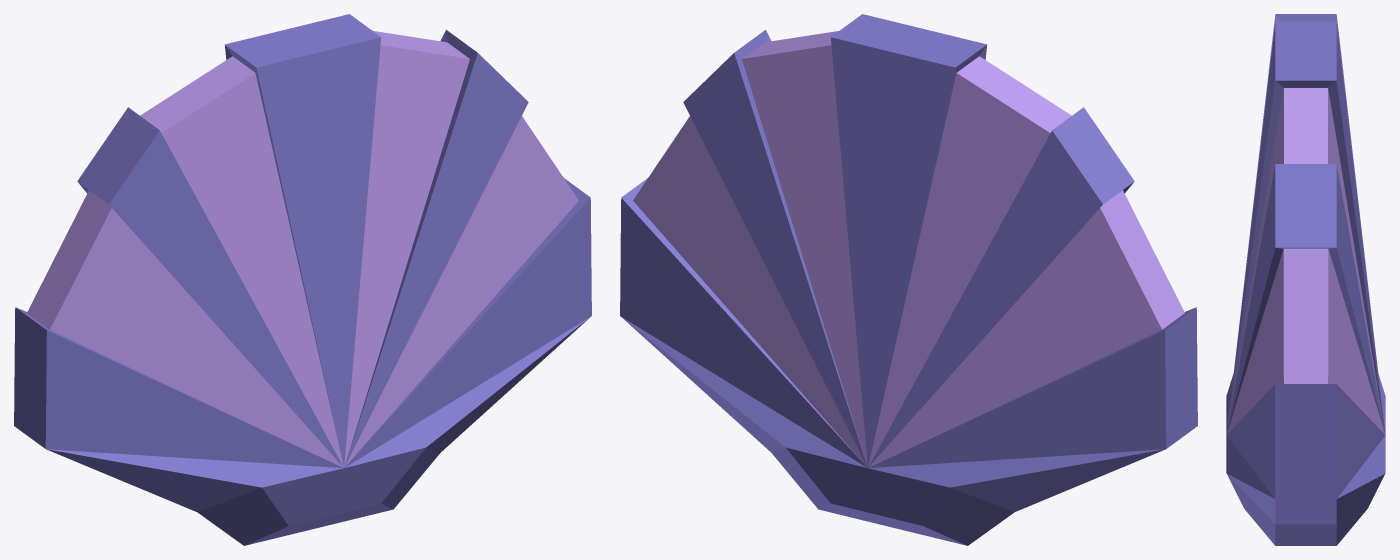
Rendered from Seashell 2 PURPLE.fbx.
3 views of the same model, side by side, from view 1: azimuth 30°, elevation 25°; view 2: azimuth 150°, elevation 25°; view 3: azimuth 270°, elevation 25° (orthographic). The views are drawn at different scales.
Parts seen in each view (by area): view 1: Object001; view 2: Object001; view 3: Object001.
Boxes of the visible parts, x1,y1,x2,y2 form: Object001: (14,14,591,545); Object001: (620,14,1197,545); Object001: (1226,14,1385,545).
Bounding box in the file's own units: 33.15 × 27.56 × 8.65.
Materials: 1 (1 with a texture image).
